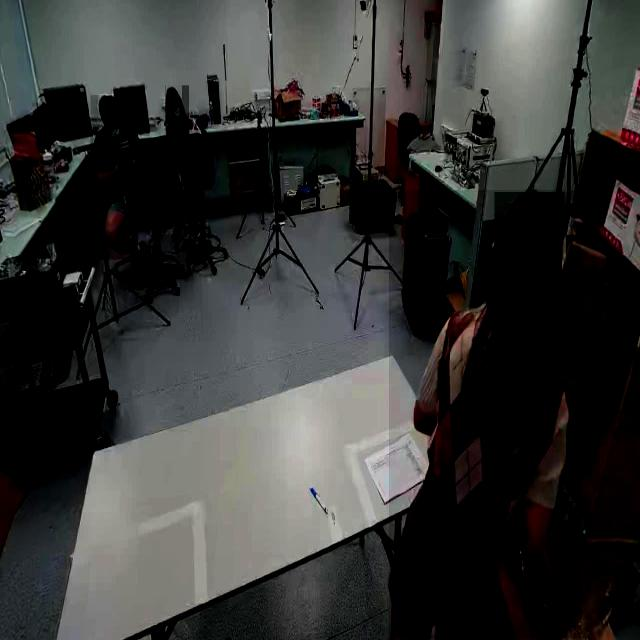face_mask: (170, 93, 184, 128)
hand_noglove: (118, 154, 134, 172), (113, 162, 125, 180), (179, 174, 186, 194)
head_nohelmet: (494, 192, 564, 261), (98, 94, 118, 110), (166, 86, 182, 100)
person: (388, 190, 582, 639), (90, 95, 138, 261), (165, 86, 189, 198)
